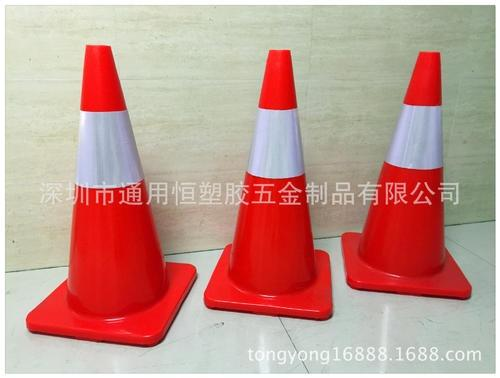cone_barrel: (49, 45, 172, 333), (208, 52, 326, 311), (346, 52, 461, 286)
